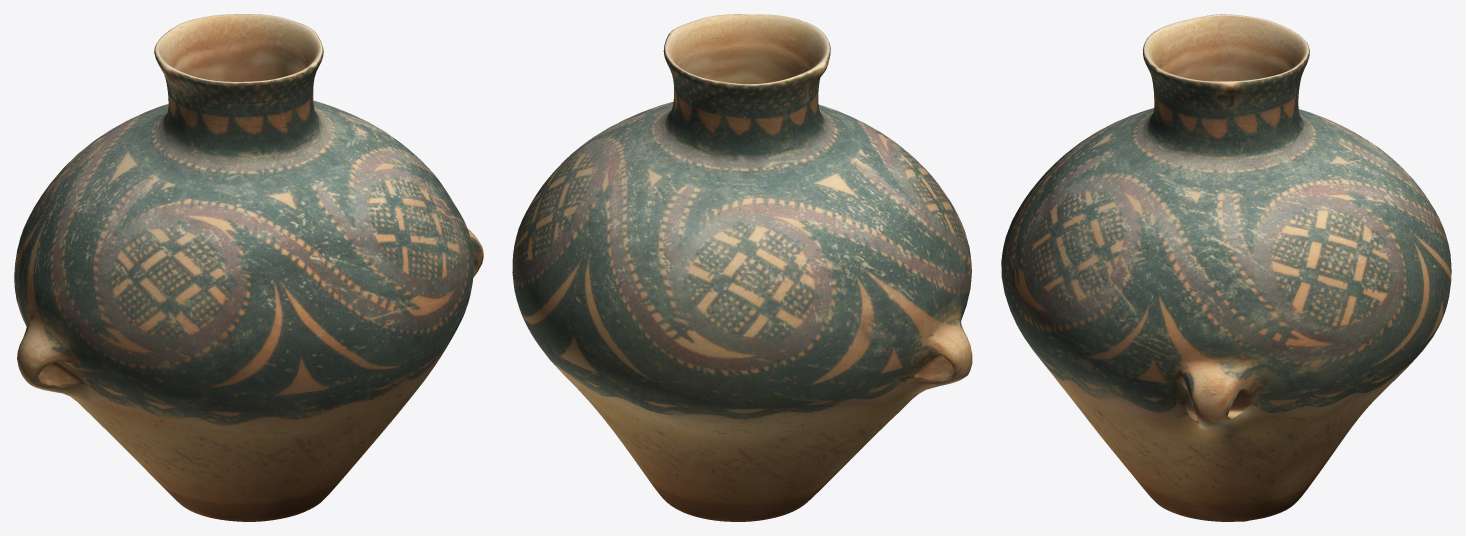
3 views of the same model, side by side, from view 1: azimuth 30°, elevation 25°; view 2: azimuth 150°, elevation 25°; view 3: azimuth 270°, elevation 25° (orthographic).
Parts seen in each view (by area): view 1: Group3748; view 2: Group3748; view 3: Group3748.
Part boxes in pixels (x1,y1,x2,y2): Group3748: [14, 14, 483, 521]; Group3748: [512, 14, 972, 521]; Group3748: [1001, 14, 1451, 521].
Size of the model in its own units: 5.76 by 5.47 by 5.06.
Materials: 1 (1 with a texture image).
